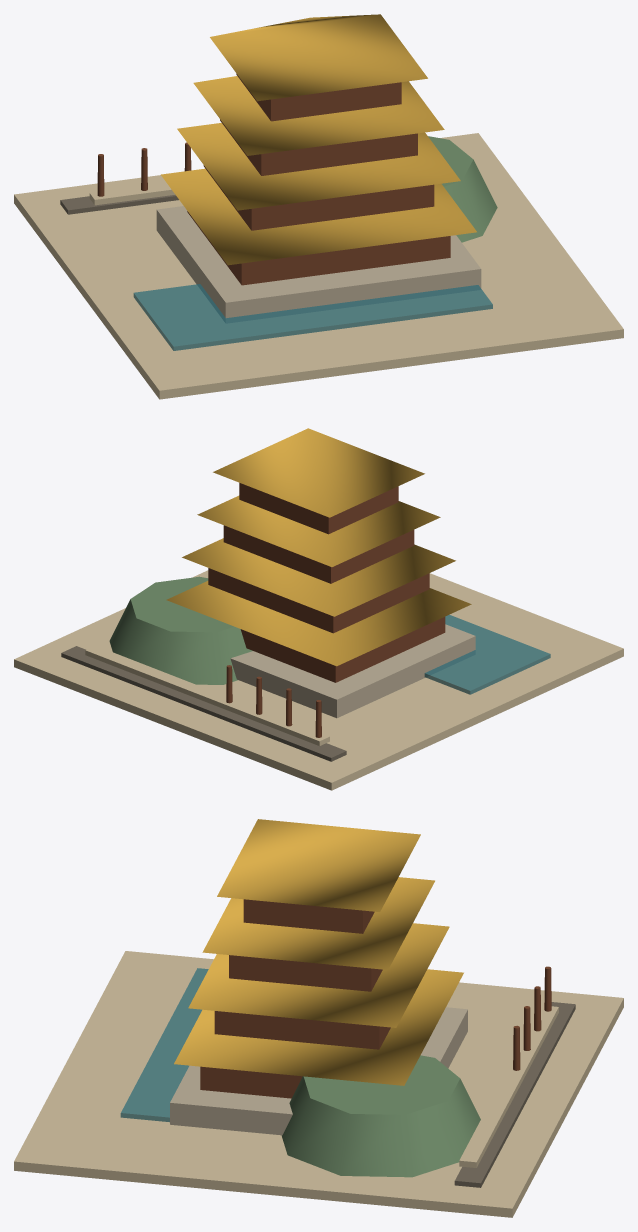
Rendered from model-medium.glb.
3 renders of one model, top to bottom at view 1: azimuth 30°, elevation 25°; view 2: azimuth 150°, elevation 25°; view 3: azimuth 270°, elevation 25°, orthographic. The views are drawn at different scales.
Parts seen in each view (by area): view 1: context_site_plinth, pavilion_terrace, pavilion_roof_4, pavilion_roof_1, garden_pond, pavilion_roof_2, pavilion_roof_3, pavilion_floor_1, pavilion_floor_2, pavilion_floor_3, pavilion_floor_4, garden_rockery_hill (+2 smaller); view 2: context_site_plinth, pavilion_roof_4, garden_rockery_hill, pavilion_roof_1, pavilion_terrace, pavilion_roof_2, pavilion_roof_3, garden_pond, pavilion_floor_2, pavilion_floor_1, front_scale_strip, pavilion_floor_3 (+2 smaller); view 3: context_site_plinth, garden_rockery_hill, pavilion_roof_4, pavilion_roof_1, pavilion_roof_2, pavilion_roof_3, pavilion_terrace, garden_pond, pavilion_floor_2, pavilion_floor_3, front_scale_strip, garden_gallery_path (+2 smaller).
Boxes of the visible parts, box(x1,y1,x2,y2) form: context_site_plinth: box(14, 133, 623, 399); pavilion_terrace: box(156, 206, 481, 323); pavilion_roof_4: box(210, 14, 427, 101); pavilion_roof_1: box(161, 168, 476, 265); garden_pond: box(133, 284, 492, 350); pavilion_roof_2: box(177, 123, 460, 210); pavilion_roof_3: box(193, 76, 444, 155); pavilion_floor_1: box(187, 211, 450, 285); pavilion_floor_2: box(203, 165, 434, 230); pavilion_floor_3: box(220, 119, 417, 175); pavilion_floor_4: box(236, 73, 401, 121); garden_rockery_hill: box(428, 136, 497, 242); context_site_plinth: box(14, 570, 623, 790); pavilion_roof_4: box(213, 428, 424, 517); garden_rockery_hill: box(109, 576, 252, 684); pavilion_roof_1: box(166, 581, 471, 666); pavilion_terrace: box(230, 624, 475, 718); pavilion_roof_2: box(182, 538, 455, 616); pavilion_roof_3: box(197, 495, 440, 566); garden_pond: box(424, 614, 550, 694); pavilion_floor_2: box(208, 568, 429, 633); pavilion_floor_1: box(240, 617, 445, 682); front_scale_strip: box(61, 646, 346, 761); pavilion_floor_3: box(223, 525, 414, 583); context_site_plinth: box(14, 951, 623, 1217); garden_rockery_hill: box(281, 1055, 480, 1177); pavilion_roof_4: box(217, 819, 420, 911); pavilion_roof_1: box(174, 969, 463, 1085); pavilion_roof_2: box(188, 923, 449, 1027); pavilion_roof_3: box(202, 877, 434, 969); pavilion_terrace: box(170, 1007, 467, 1135); garden_pond: box(120, 968, 208, 1122); pavilion_floor_2: box(214, 1011, 390, 1049); pavilion_floor_3: box(229, 955, 382, 991); front_scale_strip: box(454, 1002, 575, 1187); garden_gallery_path: box(459, 1005, 558, 1167).
Size of the model in its own units: 9.55 by 4.38 by 9.55.
